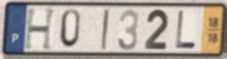0: (58, 8, 82, 50)
2: (143, 7, 171, 52)
3: (117, 8, 140, 52)
H: (23, 7, 58, 52)
I: (100, 8, 110, 52)
L: (174, 10, 198, 51)
